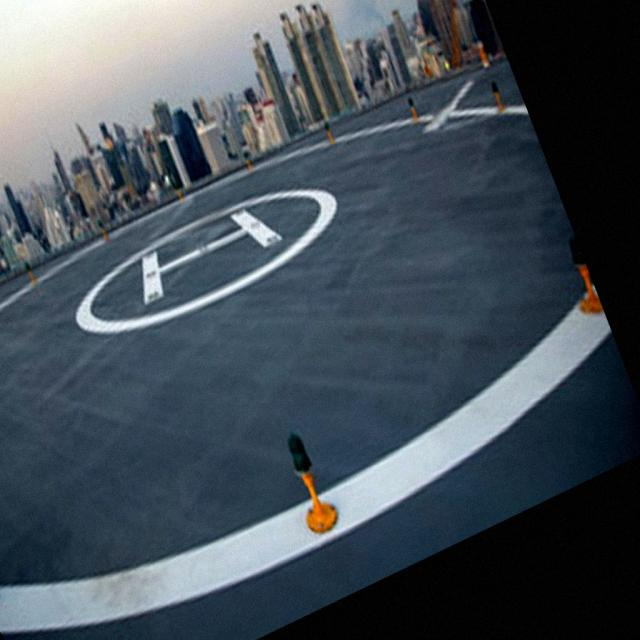helipad: (74, 182, 340, 336)
